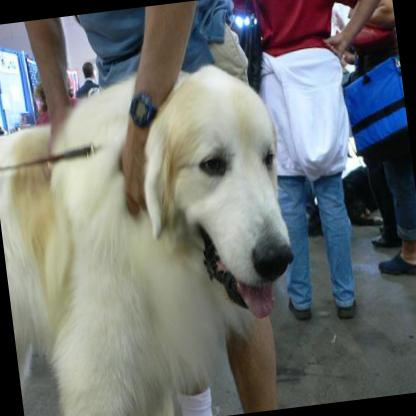Great_Pyrenees: (0, 52, 314, 416)
